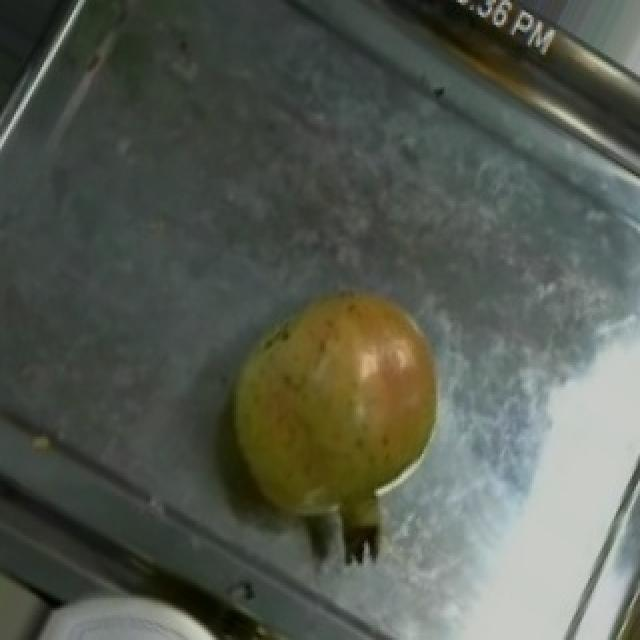fruit: (216, 258, 470, 509)
